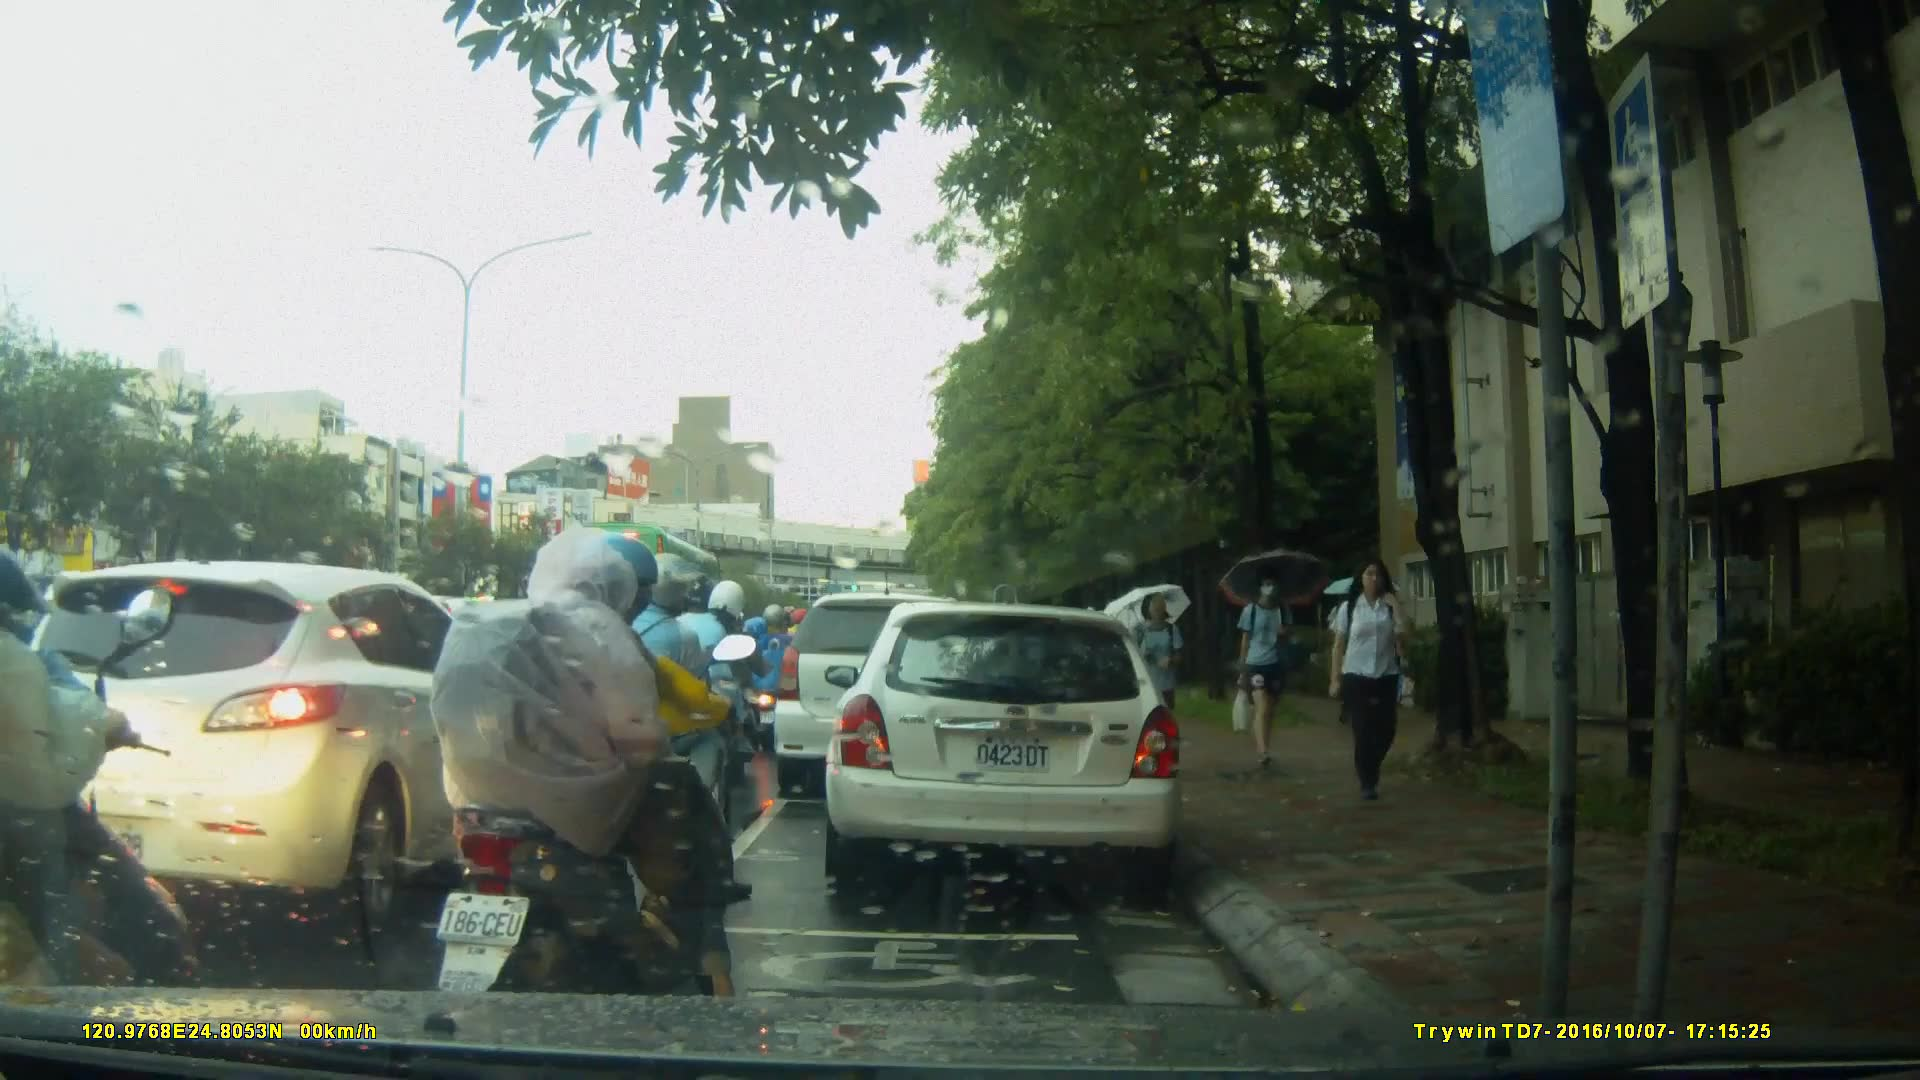pedestrian: (1320, 550, 1418, 810), (1220, 563, 1300, 776), (1127, 594, 1189, 742), (1136, 606, 1175, 736)
rider: (444, 530, 764, 1018), (1, 551, 203, 1071), (591, 556, 739, 876), (637, 576, 758, 850), (737, 603, 801, 746)
vehicle: (15, 560, 560, 928), (822, 604, 1186, 882), (774, 595, 995, 802), (554, 519, 739, 666)
